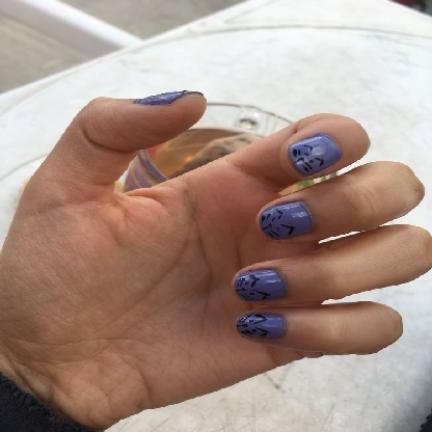Nail: (289, 133, 342, 176), (259, 202, 313, 239), (235, 269, 287, 301), (236, 313, 286, 338), (133, 91, 203, 105)
